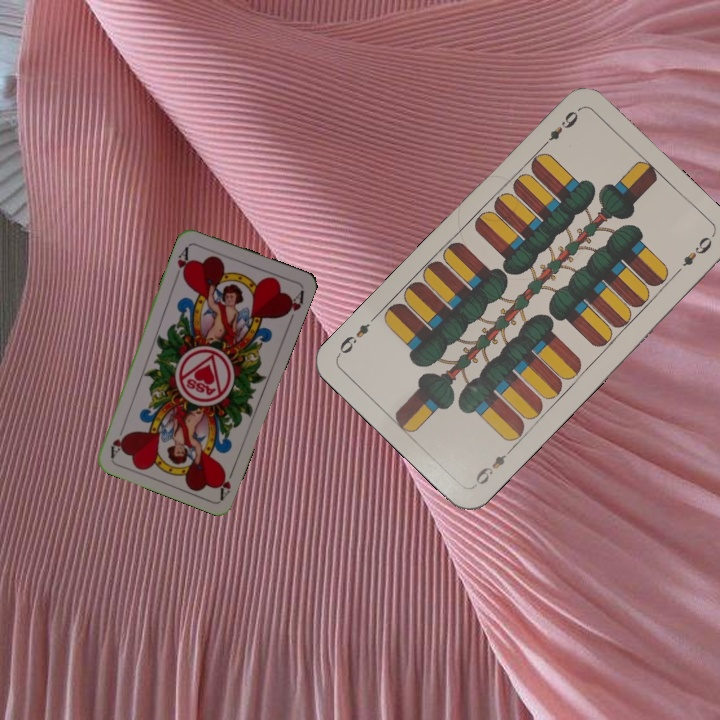E9: (471, 443, 516, 487), (537, 107, 581, 151)
HA: (214, 462, 238, 501), (171, 242, 193, 282)
